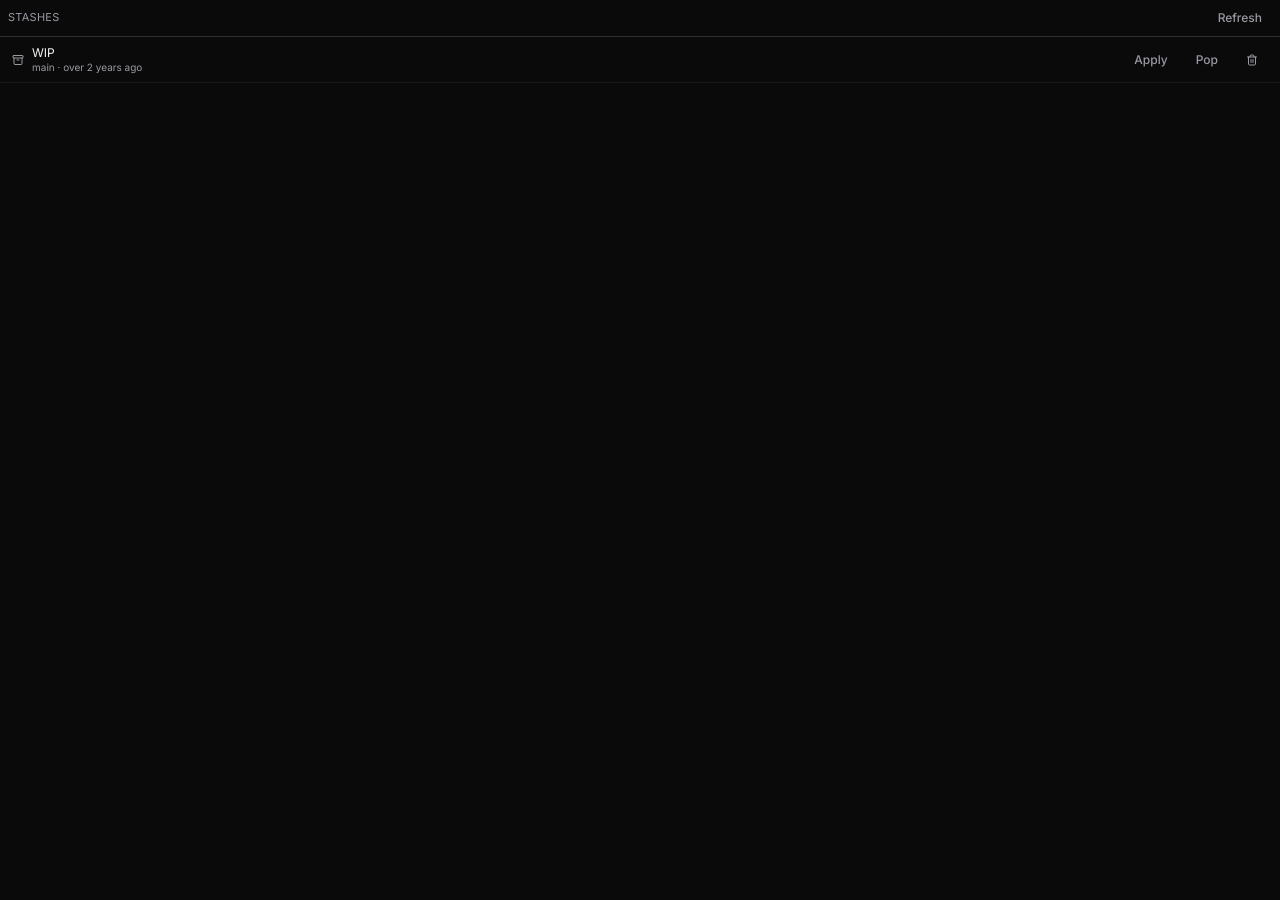
Test: StashList › pop action shows different copy
Expected: the element with test id "stash-row" is shown, top-left (0, 37), bottom-right (1279, 83)
What coordinates should you click on to do the following:
click the button with test id "stash-pop"
I would click on:
 (1207, 60)
Its box is top-left (1186, 46), bottom-right (1228, 74).
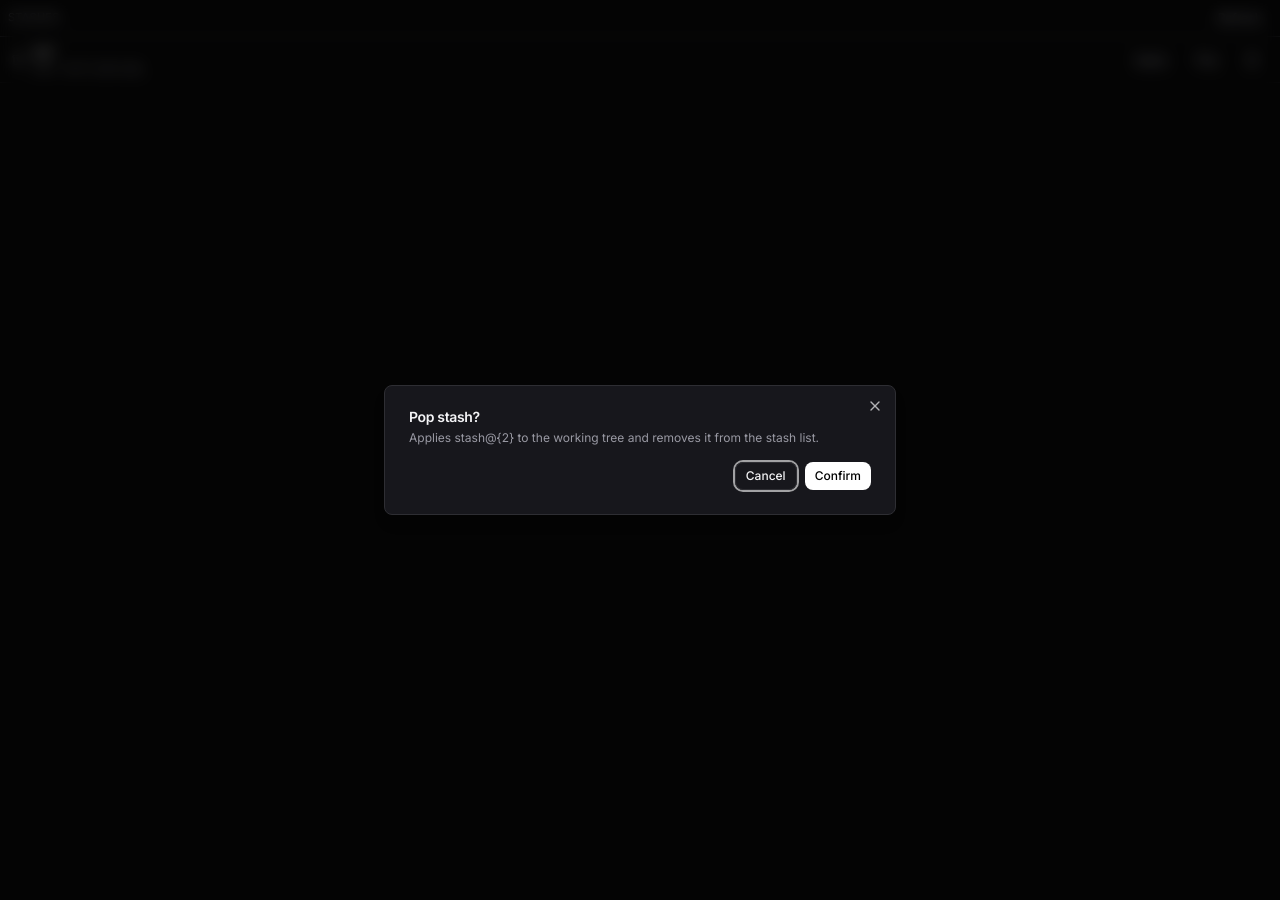
Expected: the heading "Pop stash?" is shown, top-left (409, 408), bottom-right (480, 425)
